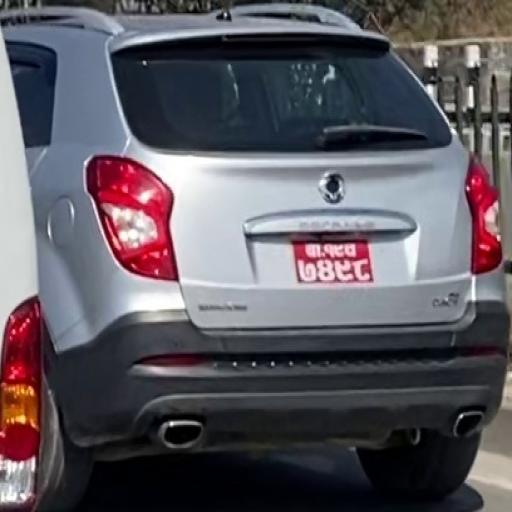license_plate: (289, 235, 380, 287)
